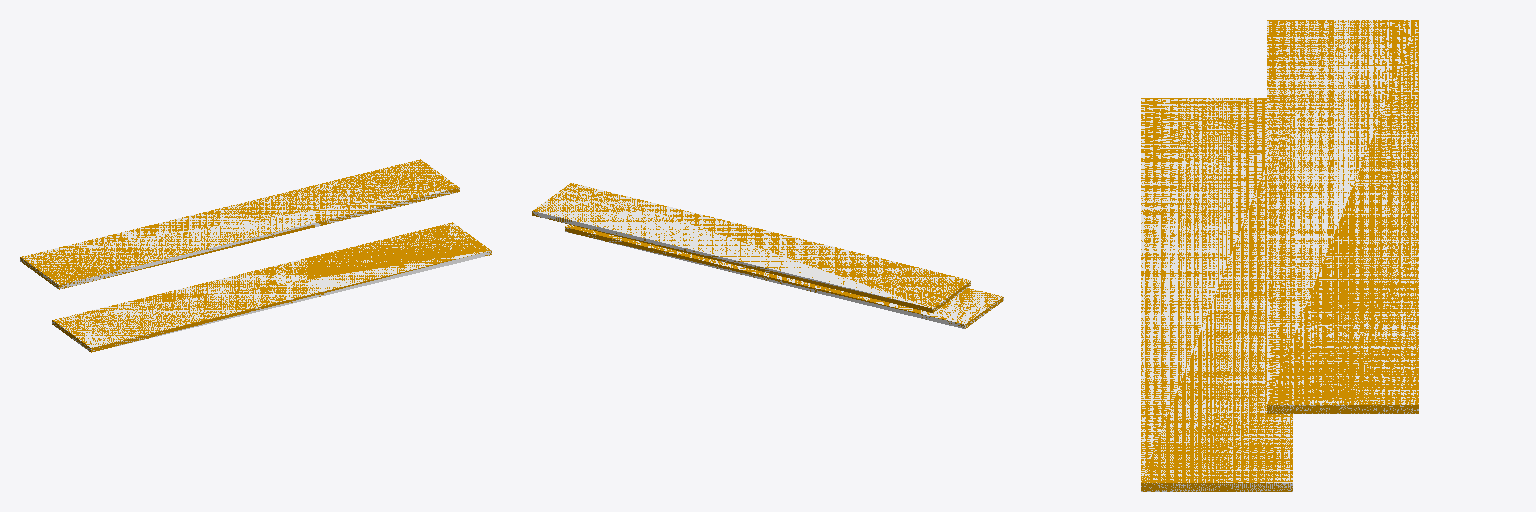
The robot description file, URDF, robot "my_object":
<?xml version="1.0" ?> 
<robot name="my_object" static="true">
  <link name="base_link">
  <inertial>
    <mass value="1.0" />
    <origin xyz="0 0 0.0" />
    <inertia ixx="1.0" ixy="0.0" ixz="0.0" iyy="1.0" iyz="0.0" izz="1.0"/>
  </inertial>
  <visual>
   <origin xyz="0 0 0.0" rpy="0 0 0" />
   <geometry>
     <mesh filename="package://cob_gazebo_objects/Media/models/boards_before_bedroom.dae"/>
   </geometry>
  </visual>
  <collision>
   <origin xyz="0 0.03 0.11" rpy="0 0 0" />
   <geometry>
     <box size="1.8 0.55 0.22" />
   </geometry>
  </collision>     
  </link>

<gazebo>
	<static>true</static>
</gazebo>

</robot>

--- Render facts (derived) ---
3 views of the same robot in one strip: view 1: azimuth 30°, elevation 25°; view 2: azimuth 150°, elevation 25°; view 3: azimuth 270°, elevation 25° (orthographic).
Robot: my_object — 1 links, 0 joints (none); root link base_link; default pose: every joint at zero.
Links seen in each view (by area): view 1: base_link; view 2: base_link; view 3: base_link.
Boxes of the visible links, <box> form: base_link: <box>20,159,491,352</box>; base_link: <box>532,183,1003,328</box>; base_link: <box>1141,20,1418,491</box>.
Bounding box of the posed robot: 0.0457 × 0.0139 × 0.0048 m (x, y, z).
Meshes: 1 distinct files referenced, 1 mesh visuals loaded (1 Collada DAE).